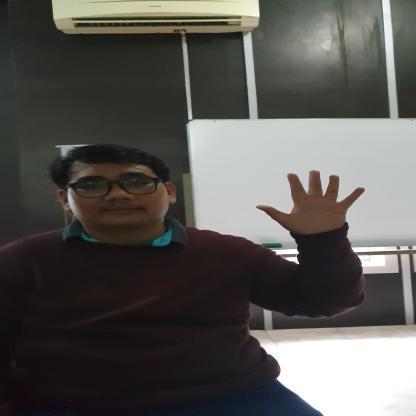Halo: (254, 167, 368, 238)
